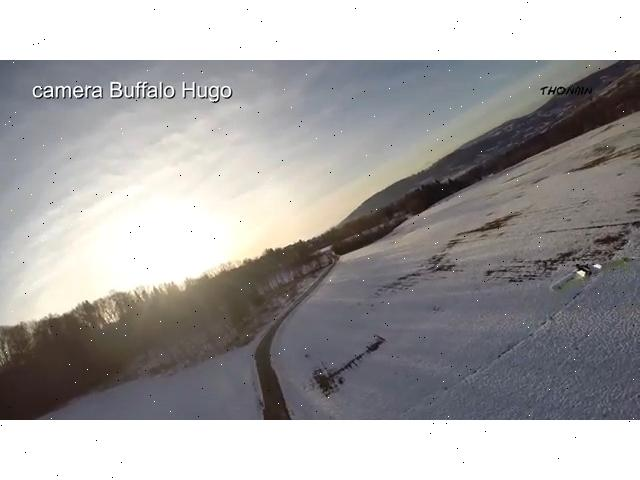Anti-Drone: (535, 239, 639, 295)
